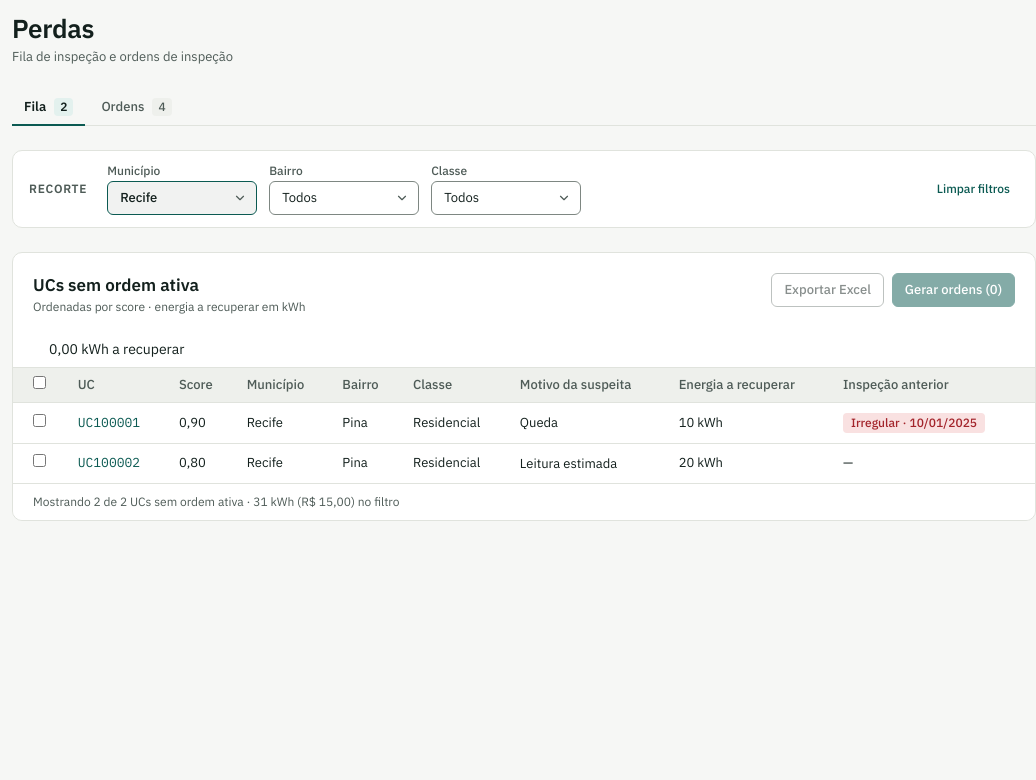
Página Perdas › exibe fila e filtro da URL, gera lote e mostra rejeitadas
Expected: the text "Irregular · 10/01/2025" is shown, [843,413,985,433]
Click the checkbox named "Selecionar UC100001" at (40, 420), box [33,414,46,427]
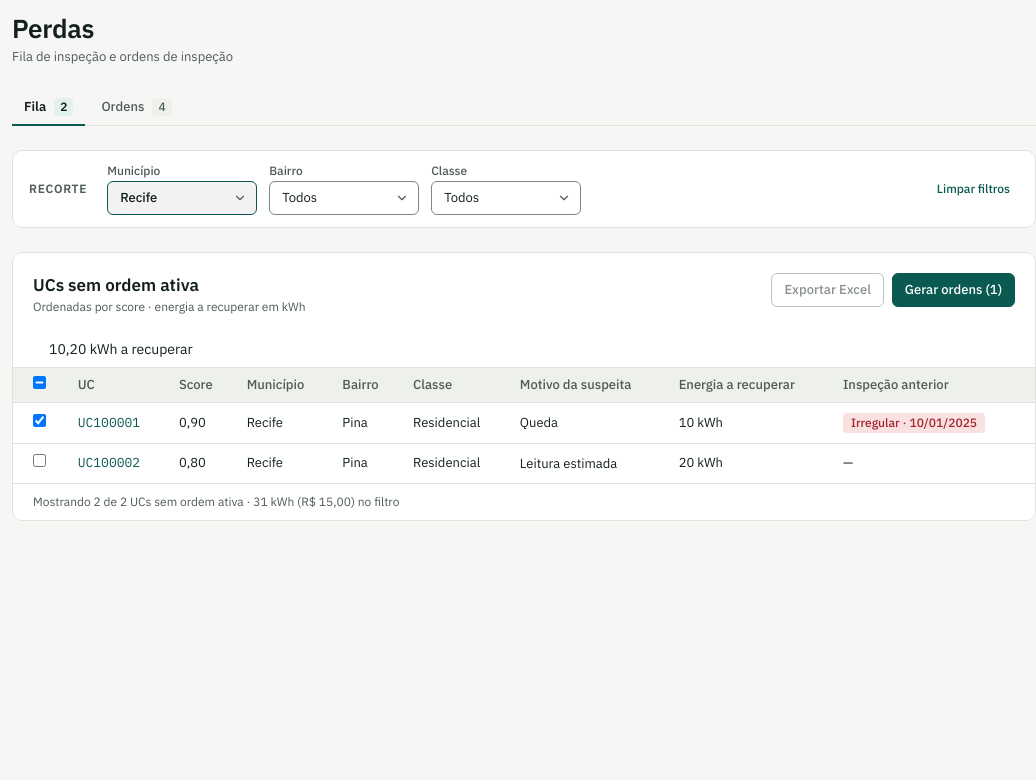
Click the checkbox named "Selecionar UC100002" at (40, 461), box [33,454,46,467]
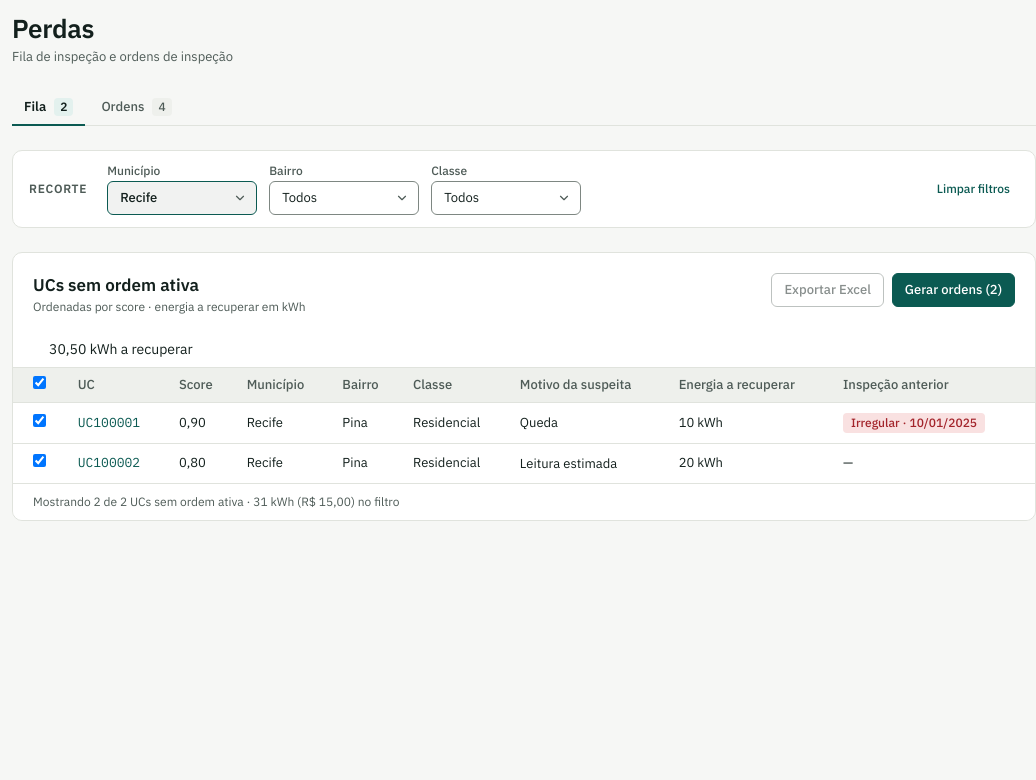
Result: the text "30,50 kWh a recuperar" is shown at [49,340,193,358]
Click the button "Gerar ordens (2)" at (953, 290), box [892,273,1015,307]
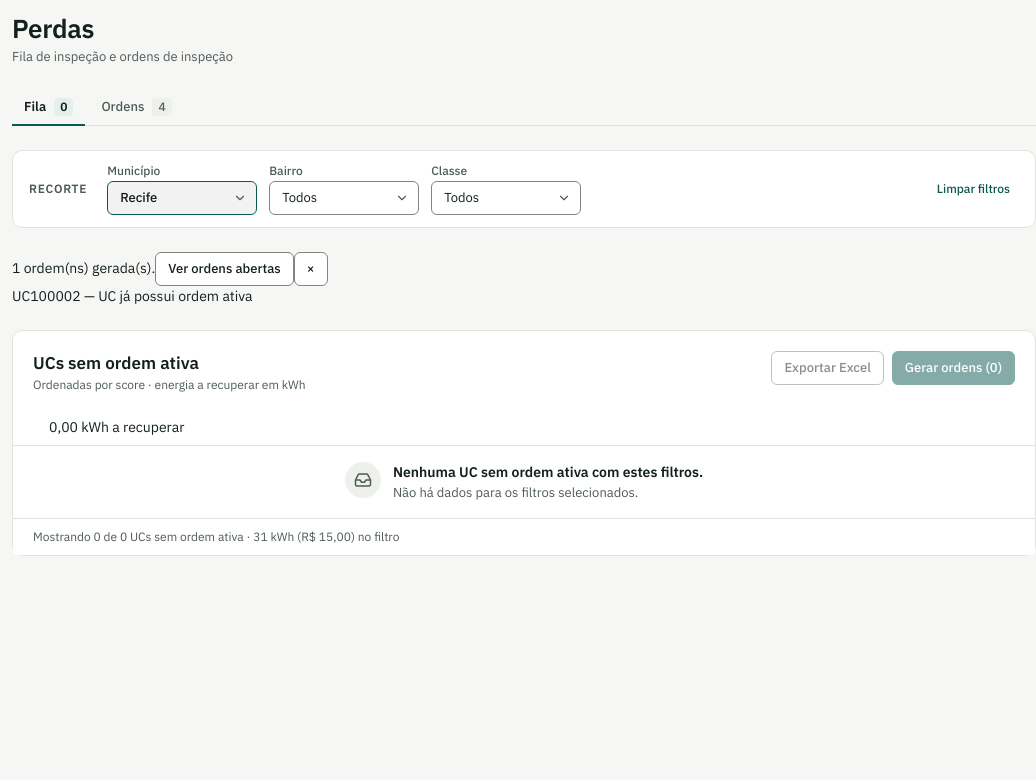
Result: the text "UC100002 — UC já possui ordem ativa" is shown at [12,287,252,305]
